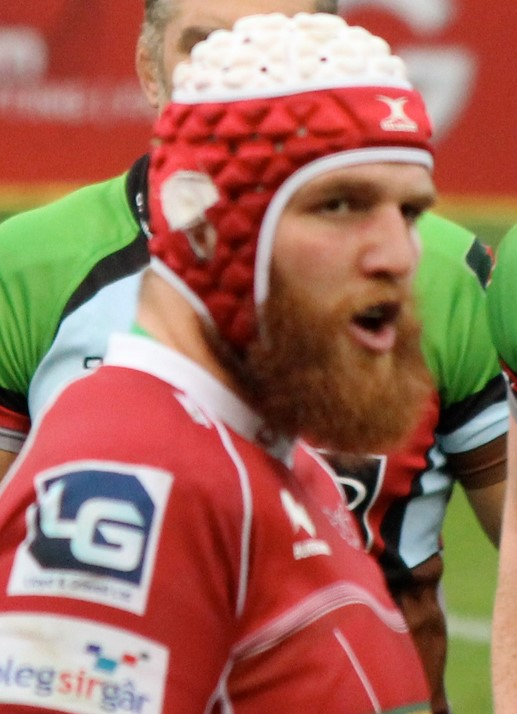face_no_mask: (190, 71, 439, 420)
